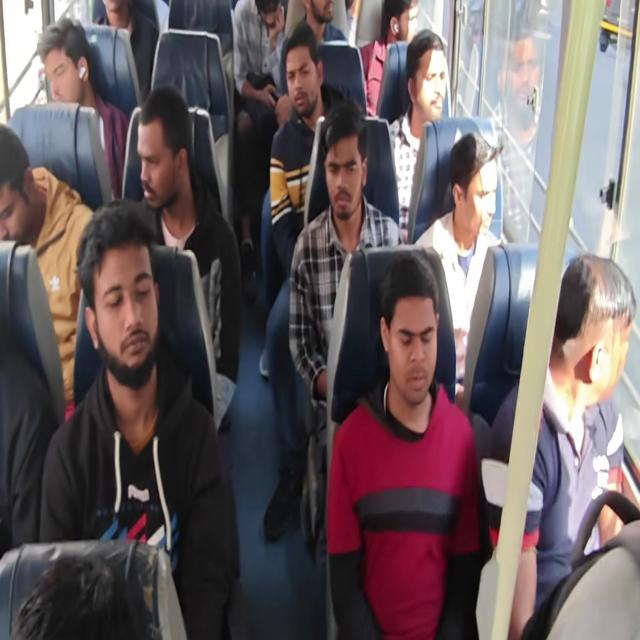person: (2, 1, 636, 638), (38, 198, 239, 638), (326, 252, 488, 638), (288, 99, 404, 636), (490, 252, 636, 638), (260, 22, 346, 540), (135, 85, 242, 431), (0, 122, 95, 422), (414, 130, 503, 401), (269, 22, 346, 277), (232, 0, 292, 298), (37, 16, 129, 200), (388, 28, 450, 234), (10, 553, 154, 639), (489, 28, 546, 244), (273, 0, 348, 125), (359, 0, 419, 117), (93, 0, 159, 102), (287, 0, 348, 45)
